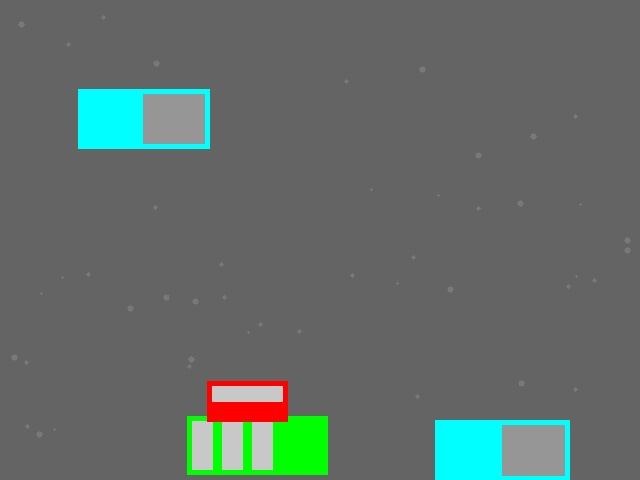bus: (187, 416, 327, 474)
car: (207, 381, 287, 421)
truck: (435, 420, 569, 480), (78, 89, 209, 148)
